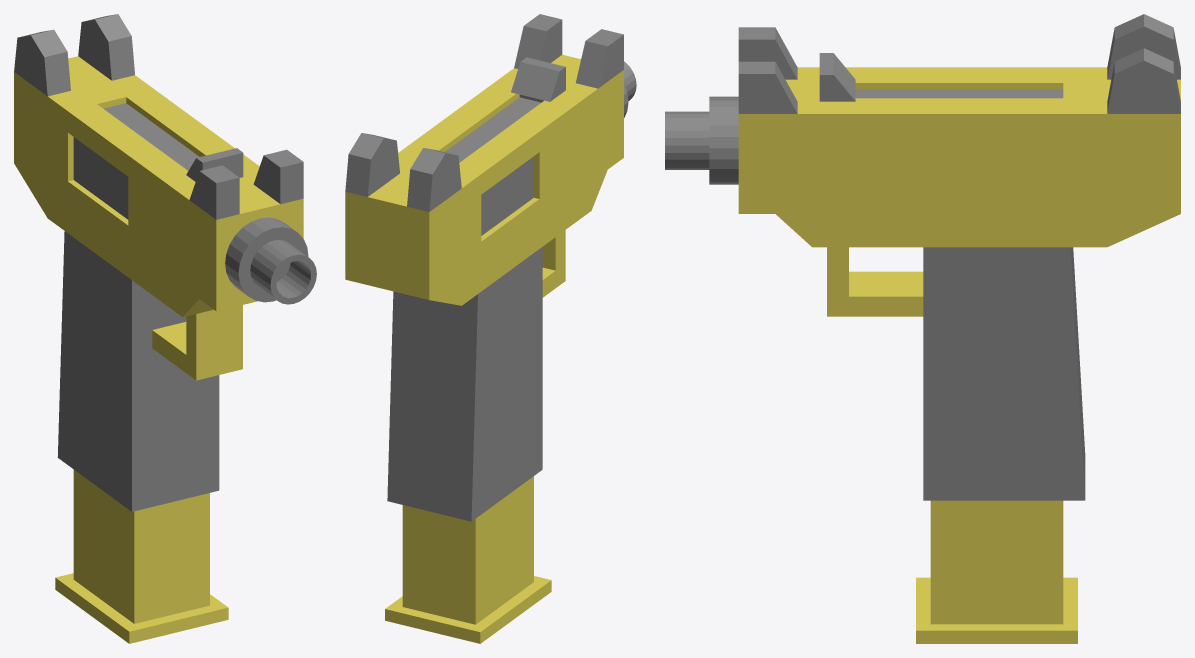
The model's file is uzi.glb.
3 views of the same model, side by side, from view 1: azimuth 30°, elevation 25°; view 2: azimuth 150°, elevation 25°; view 3: azimuth 270°, elevation 25° (orthographic). The views are drawn at different scales.
Visible parts, largest first — view 1: Mesh1; view 2: Mesh1; view 3: Mesh1.
Part boxes in pixels (x1,y1,x2,y2): Mesh1: (14,14,316,643); Mesh1: (345,14,636,643); Mesh1: (665,14,1180,643).
Bounding box in the file's own units: 0.102 × 0.522 × 0.4206.
